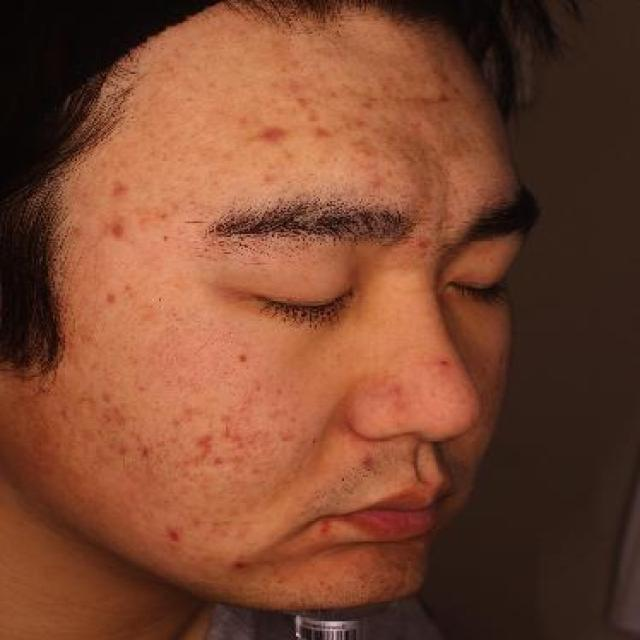acne: (246, 116, 300, 150), (154, 516, 197, 550), (106, 155, 134, 203), (104, 204, 130, 252), (184, 430, 216, 468), (354, 444, 382, 486), (228, 344, 256, 366), (302, 432, 324, 450)
